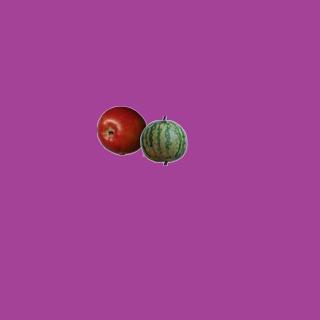Apple Braeburn: (96, 105, 146, 155)
Watermelon: (138, 115, 188, 165)
